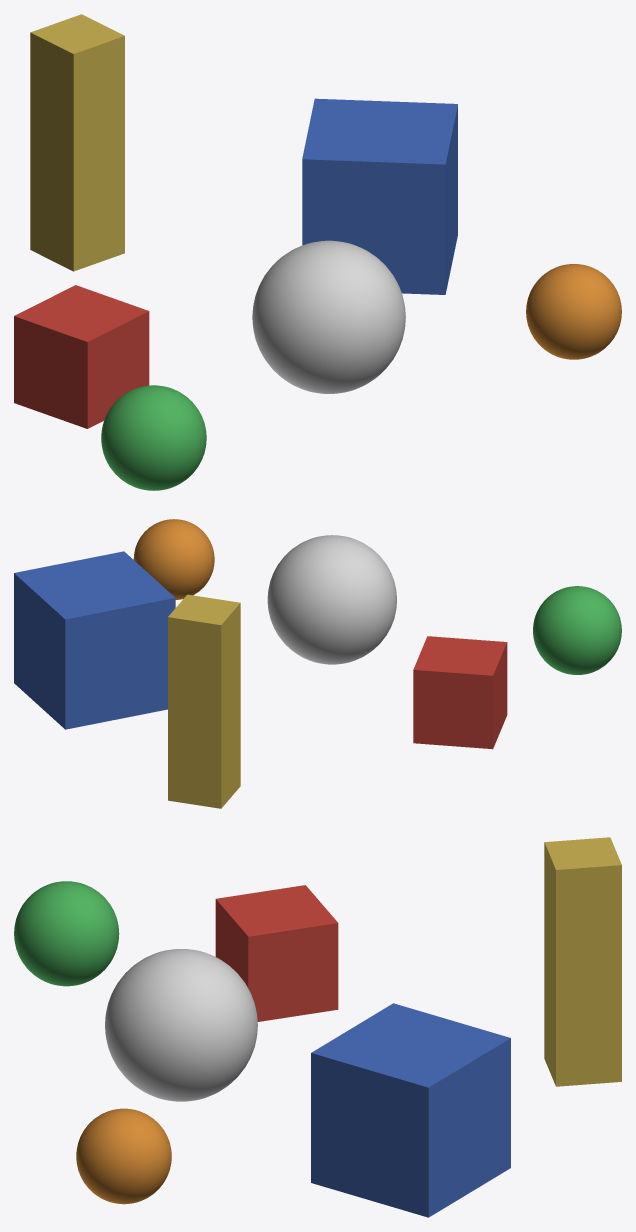
3 renders of one model, top to bottom at view 1: azimuth 30°, elevation 25°; view 2: azimuth 150°, elevation 25°; view 3: azimuth 270°, elevation 25°, orthographic. The views are drawn at different scales.
Parts seen in each view (by area): view 1: blue box, gold pillar, white sphere, red box, green sphere, orange sphere; view 2: blue box, gold pillar, white sphere, red box, green sphere, orange sphere; view 3: blue box, gold pillar, white sphere, red box, green sphere, orange sphere.
Boxes of the visible parts, box(x1,y1,x2,y2) form: blue box: box(302, 98, 457, 294); gold pillar: box(30, 14, 124, 271); white sphere: box(252, 240, 405, 393); red box: box(14, 285, 149, 428); green sphere: box(101, 385, 206, 490); orange sphere: box(526, 264, 621, 359); blue box: box(14, 551, 175, 729); gold pillar: box(168, 594, 240, 808); white sphere: box(267, 535, 396, 664); red box: box(413, 636, 507, 749); green sphere: box(533, 586, 621, 674); orange sphere: box(133, 519, 214, 599); blue box: box(311, 1003, 510, 1217); gold pillar: box(544, 837, 621, 1086); white sphere: box(105, 949, 257, 1101); red box: box(215, 885, 338, 1021); green sphere: box(14, 881, 119, 986); orange sphere: box(76, 1108, 171, 1204).
Size of what is drawn, in the model's own units: 6.45 by 2.5 by 6.36.
